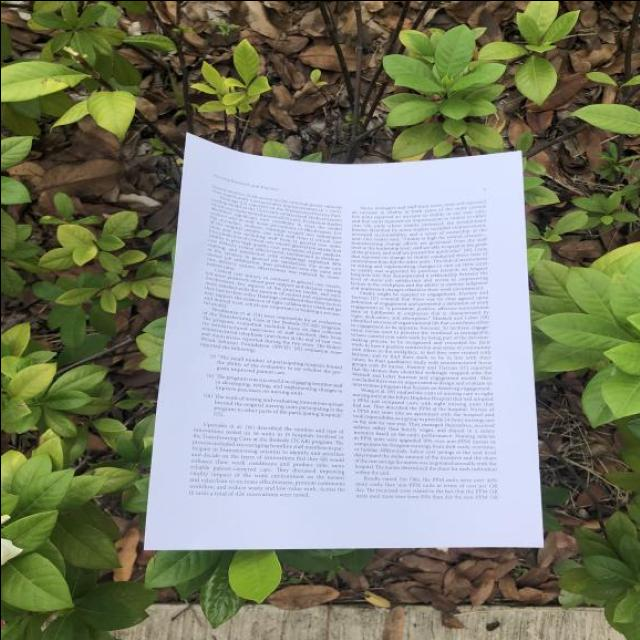kertas: (145, 135, 542, 549)
